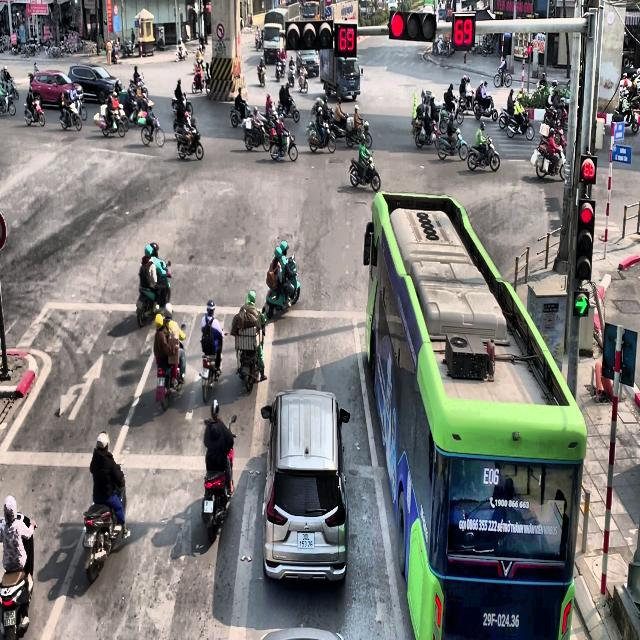BUS: (362, 190, 586, 639)
CAR: (260, 388, 350, 584), (67, 64, 121, 104), (29, 70, 74, 108)
MOTORBIKE: (82, 458, 128, 583), (201, 415, 237, 543), (0, 512, 36, 638), (155, 335, 186, 412), (136, 261, 171, 328), (264, 254, 300, 318), (235, 316, 265, 392), (199, 331, 227, 403), (534, 136, 566, 181), (349, 151, 380, 192), (467, 134, 500, 171), (174, 122, 203, 160), (435, 128, 469, 160), (98, 102, 128, 138), (306, 120, 336, 154), (269, 128, 298, 162), (242, 116, 270, 151), (612, 98, 639, 133), (345, 115, 372, 148), (141, 112, 165, 148), (413, 115, 439, 148), (59, 94, 82, 131), (507, 110, 534, 140), (473, 94, 498, 122), (24, 94, 45, 126), (276, 95, 300, 123), (230, 100, 252, 127), (441, 98, 463, 125), (172, 93, 193, 117), (0, 87, 16, 116), (494, 64, 512, 87), (74, 93, 88, 120), (499, 106, 515, 129), (298, 66, 308, 92), (275, 59, 285, 81), (257, 63, 266, 86), (175, 46, 187, 61), (288, 65, 296, 87), (255, 34, 263, 51)
TRAFFIC_LIGHT: (575, 197, 595, 281), (388, 9, 436, 41), (285, 19, 333, 50), (452, 13, 476, 49), (334, 22, 357, 57), (579, 154, 597, 184)
